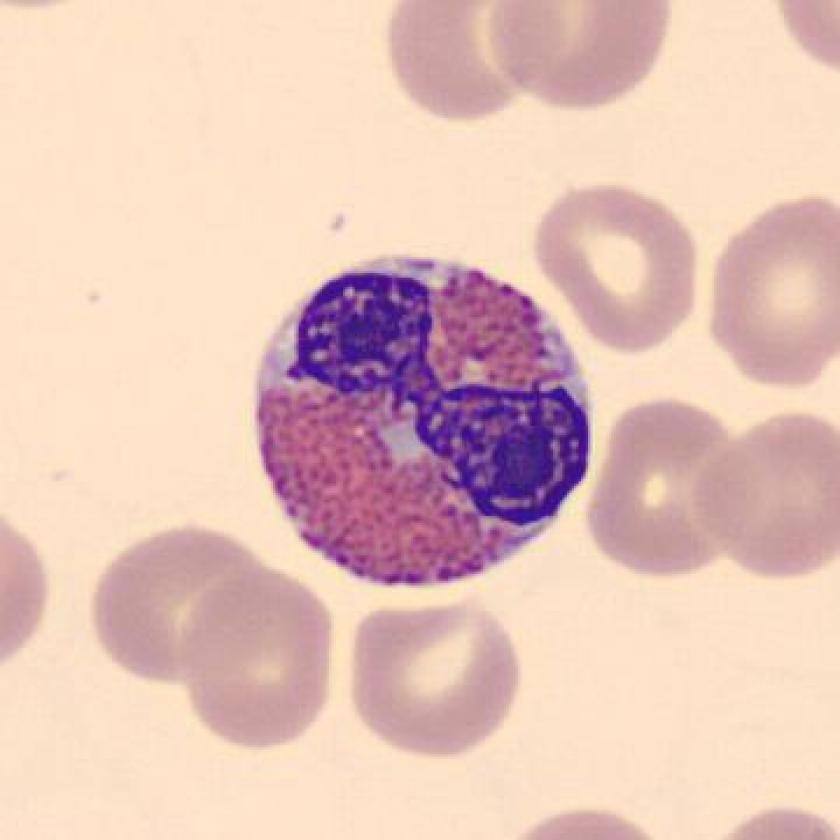eosinophil: (244, 242, 610, 598)
